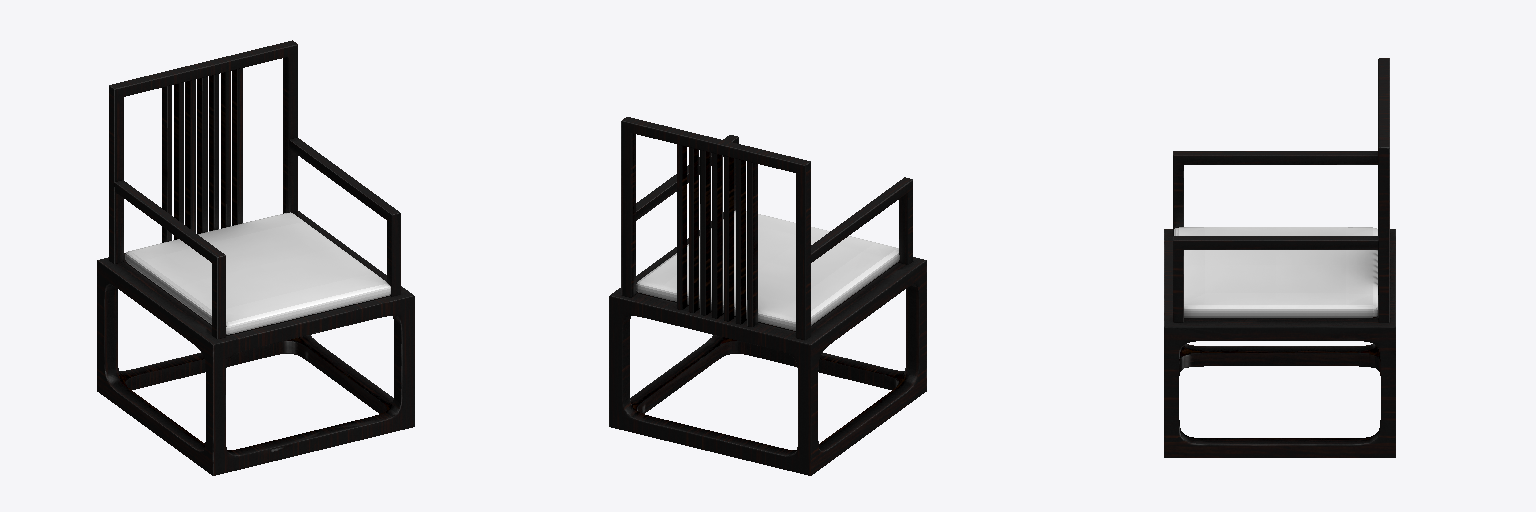
3 renders of one model, left to right at view 1: azimuth 30°, elevation 25°; view 2: azimuth 150°, elevation 25°; view 3: azimuth 270°, elevation 25°, orthographic.
Parts seen in each view (by area): view 1: solid_002, solid_001; view 2: solid_002, solid_001; view 3: solid_002, solid_001.
Boxes of the visible parts, <box> form: solid_002: <box>97,40,414,475</box>; solid_001: <box>125,212,390,334</box>; solid_002: <box>609,117,926,475</box>; solid_001: <box>636,210,899,330</box>; solid_002: <box>1164,58,1395,457</box>; solid_001: <box>1174,227,1377,317</box>.
Bounding box in the file's own units: 1.02 × 1.49 × 1.02.
Materials: 1 (1 with a texture image).